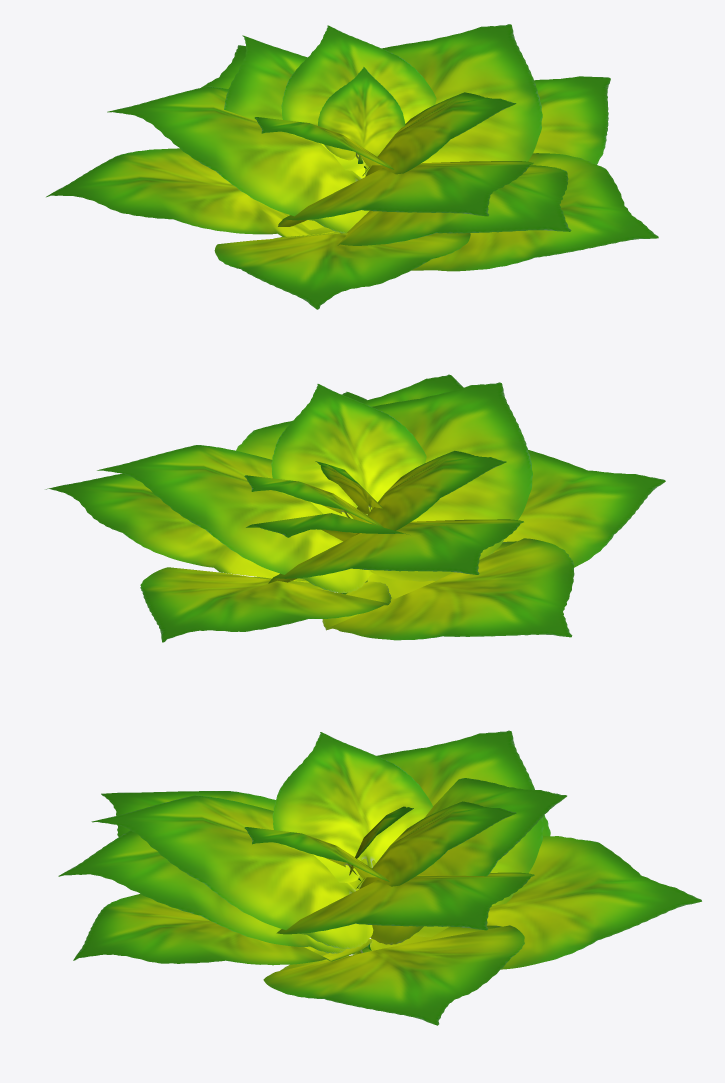
File: Plant01_Dream.glb
The picture shows the model from 3 angles, top to bottom: view 1: azimuth 30°, elevation 25°; view 2: azimuth 150°, elevation 25°; view 3: azimuth 270°, elevation 25°; orthographic projection. The views are drawn at different scales.
Parts seen in each view (by area): view 1: Plant01_dream; view 2: Plant01_dream; view 3: Plant01_dream.
Part boxes in pixels (left/top/right/bottom): Plant01_dream: left=46, top=24, right=658, bottom=309; Plant01_dream: left=45, top=374, right=665, bottom=642; Plant01_dream: left=58, top=730, right=701, bottom=1025.
Bounding box in the file's own units: 1.02 × 0.2408 × 0.9816.
1 material, 1 textured.
